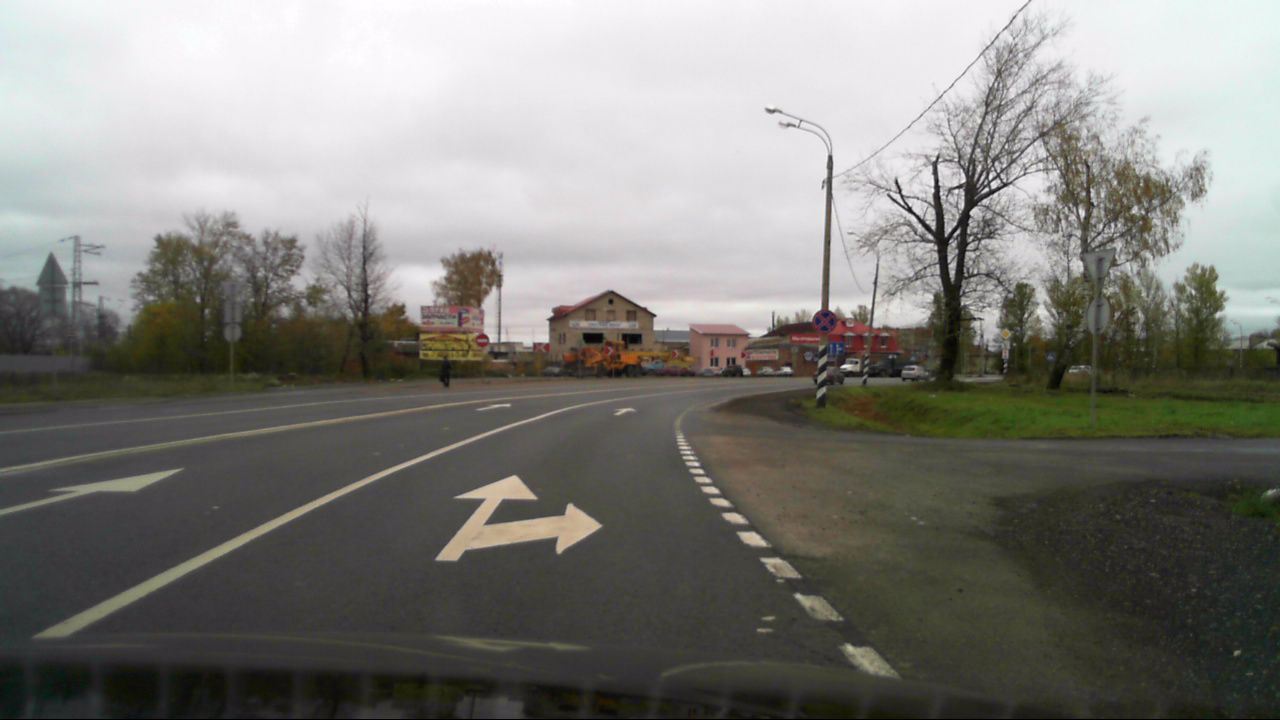No Parking: (813, 310, 835, 333)
